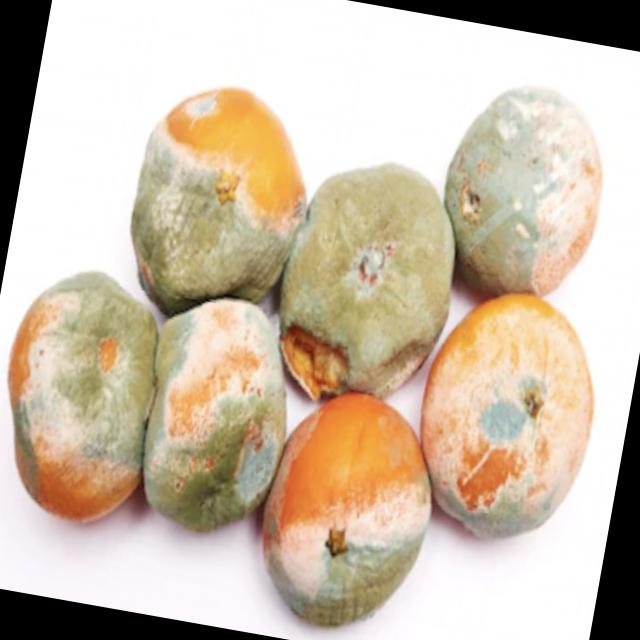rotten-orange: (400, 282, 612, 558), (267, 145, 473, 415), (112, 72, 326, 330), (248, 390, 448, 640), (0, 259, 173, 532), (430, 76, 620, 308), (130, 290, 306, 538)
